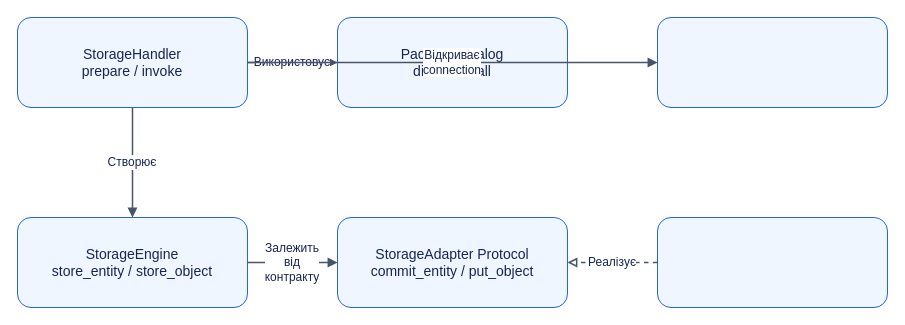
This 905x325 diagram has some shape labels left out. Here are the shapes that lost their labels. From the top down, the centre of each, then its label:
At [772,62]: "AdapterPool open / close".
At [772,262]: "FilesystemAdapter та п’ять інших адаптерів".
